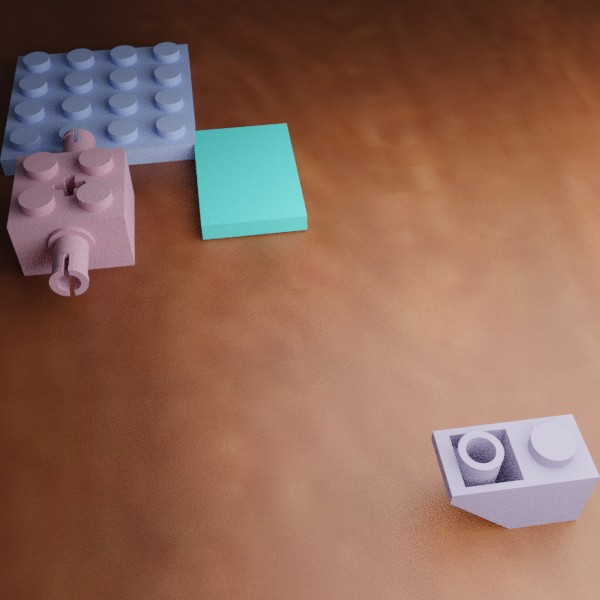lego: (0, 42, 198, 175), (6, 128, 134, 296), (431, 414, 600, 528), (193, 123, 307, 239)
